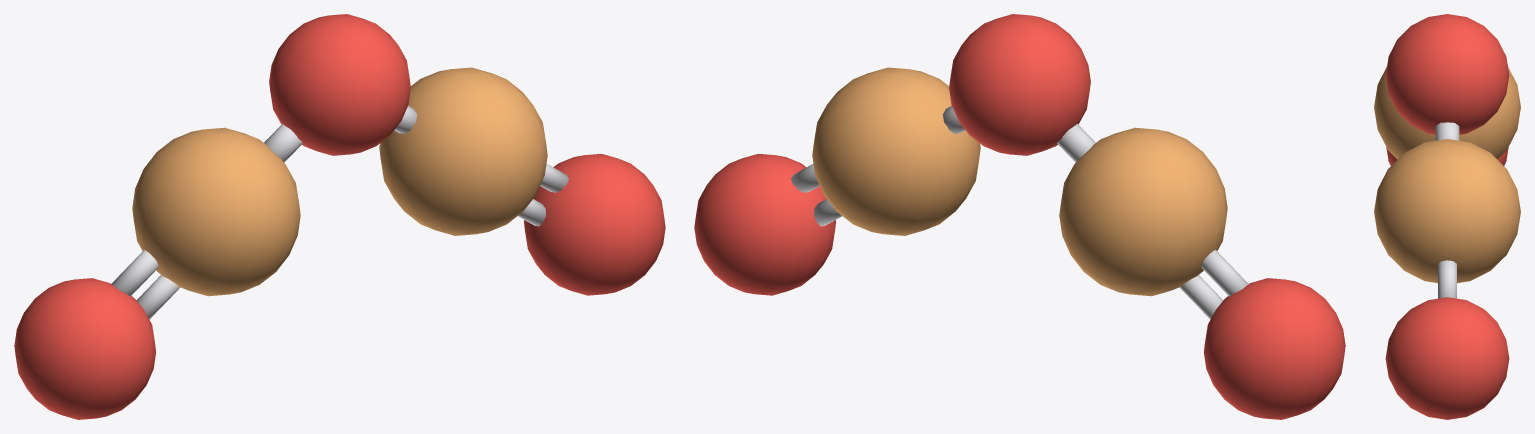
The model's file is Mol_Fe2O3_Herrumbre.glb.
3 renders of one model, left to right at view 1: azimuth 30°, elevation 25°; view 2: azimuth 150°, elevation 25°; view 3: azimuth 270°, elevation 25°, orthographic. The views are drawn at different scales.
Visible parts, largest first — view 1: Fe2O3_Fe1, Fe2O3_Fe2, Fe2O3_O1, Fe2O3_O_puente, Fe2O3_O2, Fe2O3_Enlaces; view 2: Fe2O3_Fe1, Fe2O3_Fe2, Fe2O3_O1, Fe2O3_O_puente, Fe2O3_O2, Fe2O3_Enlaces; view 3: Fe2O3_Fe2, Fe2O3_O2, Fe2O3_O_puente, Fe2O3_Fe1, Fe2O3_Enlaces, Fe2O3_O1.
Boxes of the visible parts, left/top/right/bottom form: Fe2O3_Fe1: left=132, top=127, right=300, bottom=296; Fe2O3_Fe2: left=379, top=67, right=547, bottom=235; Fe2O3_O1: left=14, top=278, right=155, bottom=419; Fe2O3_O_puente: left=269, top=14, right=410, bottom=155; Fe2O3_O2: left=524, top=153, right=665, bottom=295; Fe2O3_Enlaces: left=111, top=105, right=568, bottom=319; Fe2O3_Fe1: left=1059, top=127, right=1227, bottom=296; Fe2O3_Fe2: left=812, top=67, right=980, bottom=235; Fe2O3_O1: left=1204, top=278, right=1345, bottom=419; Fe2O3_O_puente: left=949, top=14, right=1090, bottom=155; Fe2O3_O2: left=694, top=153, right=835, bottom=295; Fe2O3_Enlaces: left=791, top=106, right=1248, bottom=319; Fe2O3_Fe2: left=1374, top=139, right=1520, bottom=283; Fe2O3_O2: left=1385, top=297, right=1509, bottom=419; Fe2O3_O_puente: left=1385, top=14, right=1509, bottom=134; Fe2O3_Fe1: left=1374, top=67, right=1520, bottom=159; Fe2O3_Enlaces: left=1435, top=122, right=1459, bottom=298; Fe2O3_O1: left=1386, top=147, right=1508, bottom=165.
Bounding box in the file's own units: 0.164 × 0.082 × 0.038.
